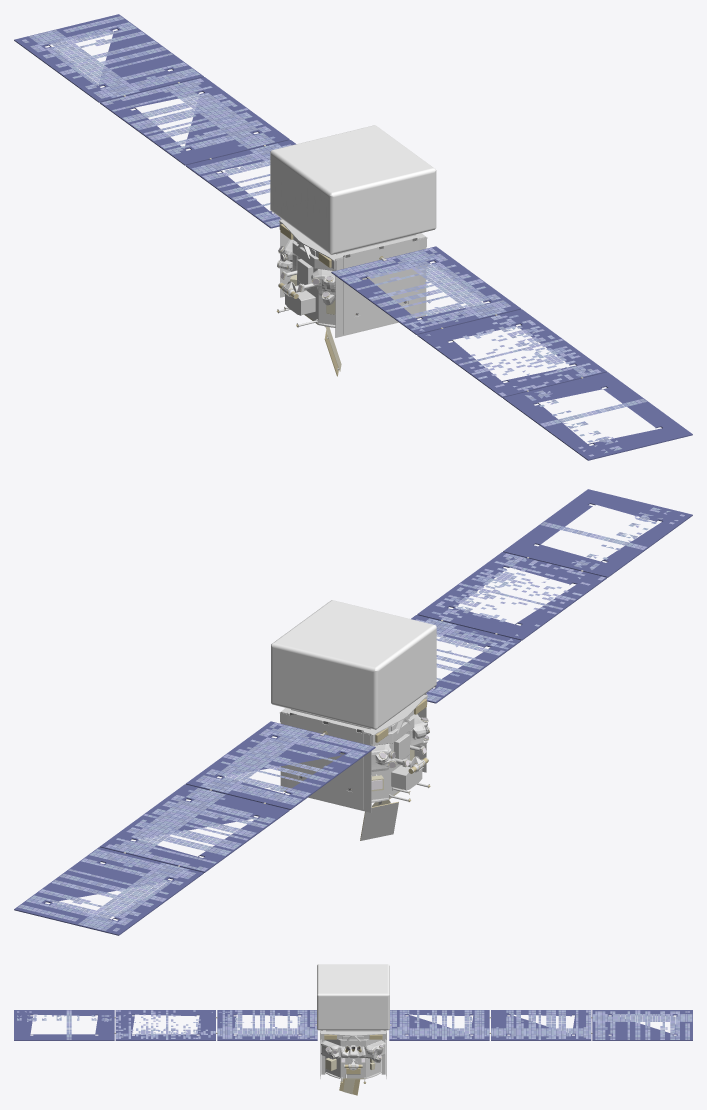
Rendered from fermi.glb.
The picture shows the model from 3 angles, top to bottom: view 1: azimuth 30°, elevation 25°; view 2: azimuth 150°, elevation 25°; view 3: azimuth 270°, elevation 25°; orthographic projection. The views are drawn at different scales.
Visible parts, largest first — view 1: Layer_1, Layer_2, Layer_0; view 2: Layer_1, Layer_2, Layer_0; view 3: Layer_1, Layer_2, Layer_0.
Boxes of the visible parts, x1,y1,x2,y2 form: Layer_1: (14,14,692,460); Layer_2: (270,125,436,254); Layer_0: (276,218,429,376); Layer_1: (14,489,692,935); Layer_2: (271,600,436,729); Layer_0: (277,693,430,840); Layer_1: (14,1010,692,1040); Layer_2: (317,964,389,1030); Layer_0: (315,1024,391,1095).
Bounding box in the file's own units: 8.54 × 12.1 × 62.31.
